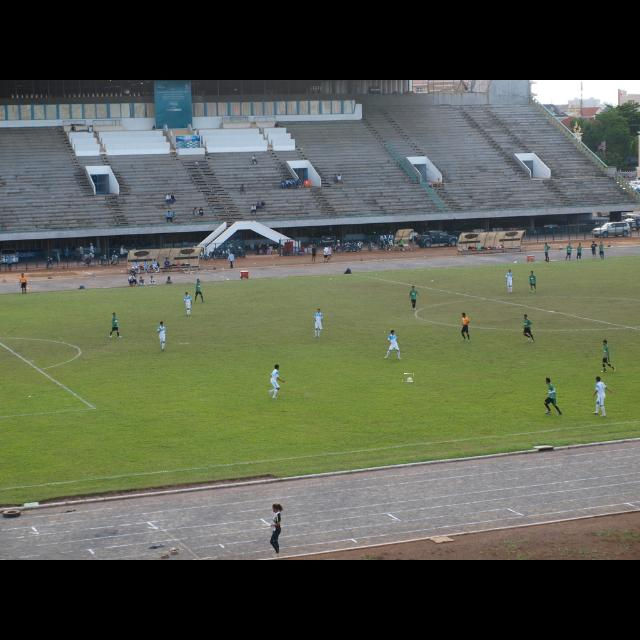Football: (402, 374, 414, 382)
